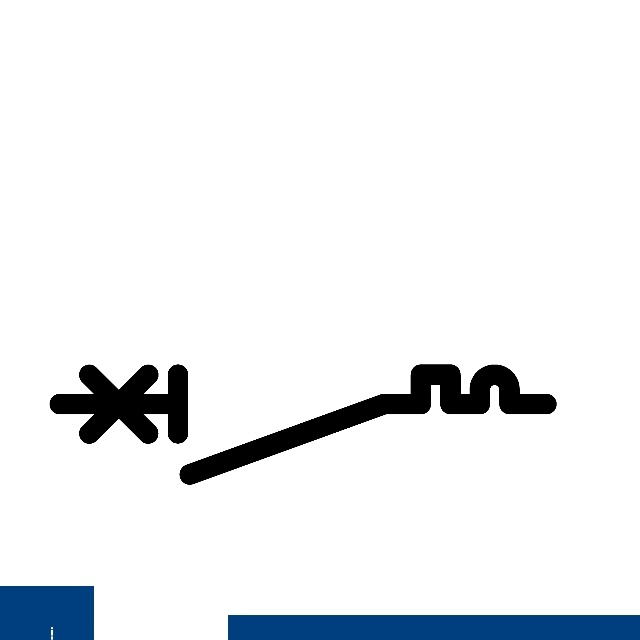interruptor_termomagnetico: (47, 362, 559, 487)
